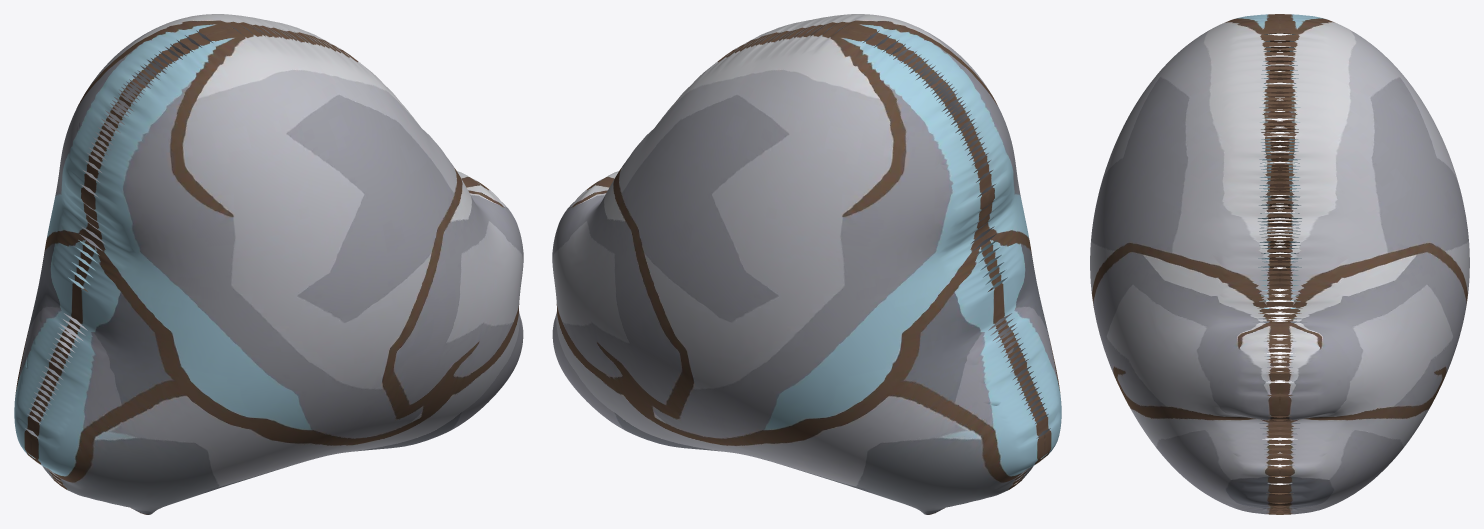
File: boulder_group.glb
3 renders of one model, left to right at view 1: azimuth 30°, elevation 25°; view 2: azimuth 150°, elevation 25°; view 3: azimuth 270°, elevation 25°, orthographic. The views are drawn at different scales.
Visible parts, largest first — view 1: boulder_group; view 2: boulder_group; view 3: boulder_group.
Part boxes in pixels (x1,y1,x2,y2): boulder_group: (14,14,523,514); boulder_group: (552,14,1061,514); boulder_group: (1090,14,1469,514).
Size of the model in its own units: 0.989 by 0.8716 by 0.7451.
Materials: 1 (1 with a texture image).
